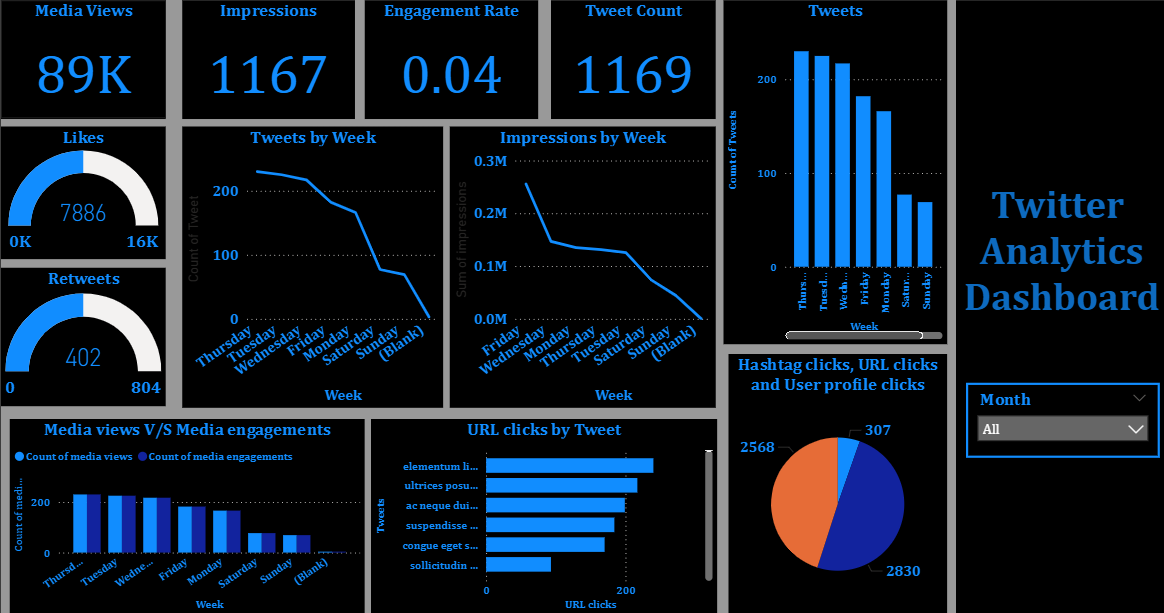

This screenshot's page, from the dashboard's own definition file:
{"tool":"powerbi","page":{"name":"Page 1","canvas":[1280,720],"ordinal":0},"visuals":[{"type":"textbox","box":[1048.4,45.3,231.9,675.1],"z":1000},{"type":"card","title":"Media Views","fields":{"Values":["Sum(SocialMedia (1).media views)"]},"box":[0,45.3,181.1,130.4],"z":2000},{"type":"card","title":"Impressions","fields":{"Values":["CountNonNull(SocialMedia (1).impressions)"]},"box":[199,45.3,189.4,130.4],"z":3000},{"type":"card","title":"Engagement Rate","fields":{"Values":["Avg(SocialMedia (1).engagement rate)"]},"box":[399.3,45.3,190.7,130.4],"z":4000},{"type":"card","title":"Tweet Count","fields":{"Values":["CountNonNull(SocialMedia (1).Tweet)"]},"box":[603.8,45.3,181.1,130.4],"z":5000},{"type":"gauge","title":"Likes","fields":{"Y":["Sum(SocialMedia (1).likes)"]},"box":[0,183.9,181.1,145.5],"z":6000},{"type":"gauge","title":"Retweets","fields":{"Y":["Max(SocialMedia (1).retweets)"]},"box":[0,338.9,181.1,152.3],"z":7000},{"type":"slicer","fields":{"Values":["SocialMedia (1).MonthName"]},"box":[1059.4,465.2,212.7,82.3],"z":8000},{"type":"lineChart","title":"Tweets by Week","fields":{"Y":["CountNonNull(SocialMedia (1).Tweet)"],"Category":["SocialMedia (1).DayWeekName"]},"box":[199,183.9,286.8,308.7],"z":9000},{"type":"lineChart","title":"Impressions by Week","fields":{"Y":["Sum(SocialMedia (1).impressions)"],"Category":["SocialMedia (1).DayWeekName"]},"box":[492.6,183.9,292.3,308.7],"z":10000},{"type":"clusteredBarChart","title":"URL clicks by Tweet","fields":{"Category":["SocialMedia (1).Tweet"],"Y":["Sum(SocialMedia (1).url clicks)"]},"box":[406.2,505,380.1,215.4],"z":10001},{"type":"pieChart","title":"Hashtag clicks, URL clicks and User profile clicks","fields":{"Y":["Sum(SocialMedia (1).hashtag clicks)","Sum(SocialMedia (1).url clicks)","Sum(SocialMedia (1).user profile clicks)"]},"box":[798.6,433.6,240.1,286.8],"z":10002},{"type":"clusteredColumnChart","title":"Media views V/S Media engagements ","fields":{"Category":["SocialMedia (1).DayWeekName"],"Y":["CountNonNull(SocialMedia (1).media views)","CountNonNull(SocialMedia (1).media engagements)"]},"box":[9.6,505,389.7,215.4],"z":10003},{"type":"clusteredColumnChart","title":"Tweets","fields":{"Category":["SocialMedia (1).DayWeekName"],"Y":["CountNonNull(SocialMedia (1).Tweet)"]},"box":[793.1,45.3,245.6,377.4],"z":10005}]}

Visuals, with their boxes in screenshot pixels (x1, y1, x2, y2):
textbox: bbox=[951, 1, 1160, 610]
"Media Views" card: bbox=[6, 1, 169, 119]
"Impressions" card: bbox=[185, 1, 356, 119]
"Engagement Rate" card: bbox=[366, 1, 538, 119]
"Tweet Count" card: bbox=[550, 1, 714, 119]
"Likes" gauge: bbox=[6, 126, 169, 258]
"Retweets" gauge: bbox=[6, 266, 169, 403]
slicer - SocialMedia (1).MonthName: bbox=[961, 380, 1153, 454]
"Tweets by Week" lineChart: bbox=[185, 126, 444, 405]
"Impressions by Week" lineChart: bbox=[450, 126, 714, 405]
"URL clicks by Tweet" clusteredBarChart: bbox=[372, 416, 715, 610]
"Hashtag clicks, URL clicks and User profile clicks" pieChart: bbox=[726, 351, 942, 610]
"Media views V/S Media engagements " clusteredColumnChart: bbox=[15, 416, 366, 610]
"Tweets" clusteredColumnChart: bbox=[721, 1, 942, 342]
